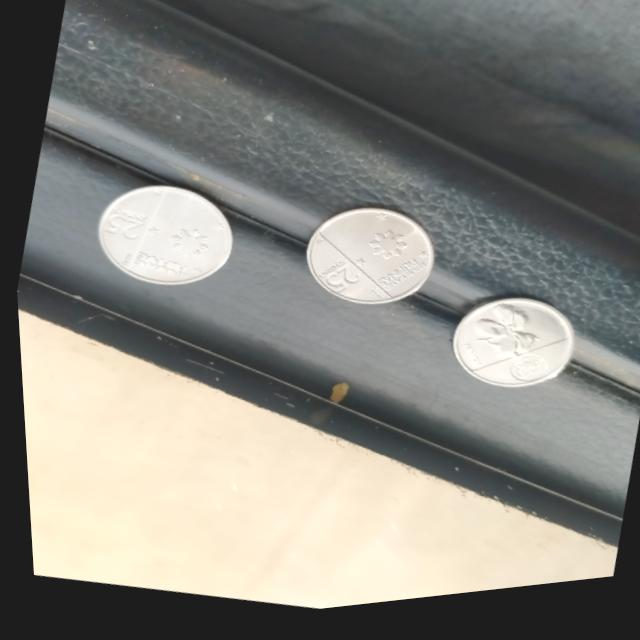25Cent_New_Back: (469, 306, 540, 373)
25Cent_New_Front: (93, 200, 149, 251), (308, 259, 365, 308)
